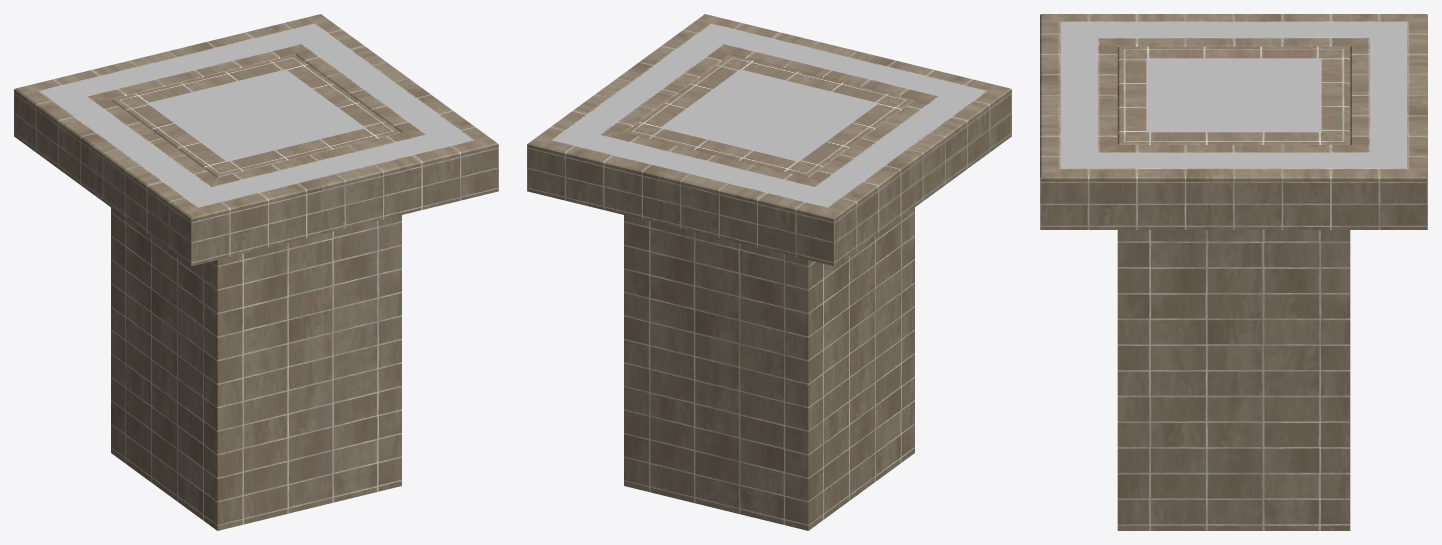
File: PlatformLargeColumnOscY.fbx
3 views of the same model, side by side, from view 1: azimuth 30°, elevation 25°; view 2: azimuth 150°, elevation 25°; view 3: azimuth 270°, elevation 25° (orthographic). The views are drawn at different scales.
Visible parts, largest first — view 1: ColumnTall, PlatformLargeColumnOscY; view 2: ColumnTall, PlatformLargeColumnOscY; view 3: ColumnTall, PlatformLargeColumnOscY.
Part boxes in pixels (<box>): ColumnTall: <box>111,55,401,530</box>; PlatformLargeColumnOscY: <box>14,14,498,266</box>; ColumnTall: <box>624,55,914,530</box>; PlatformLargeColumnOscY: <box>527,14,1011,266</box>; ColumnTall: <box>1117,46,1350,530</box>; PlatformLargeColumnOscY: <box>1040,14,1427,229</box>.
Size of the model in its own units: 500 by 550 by 500.
